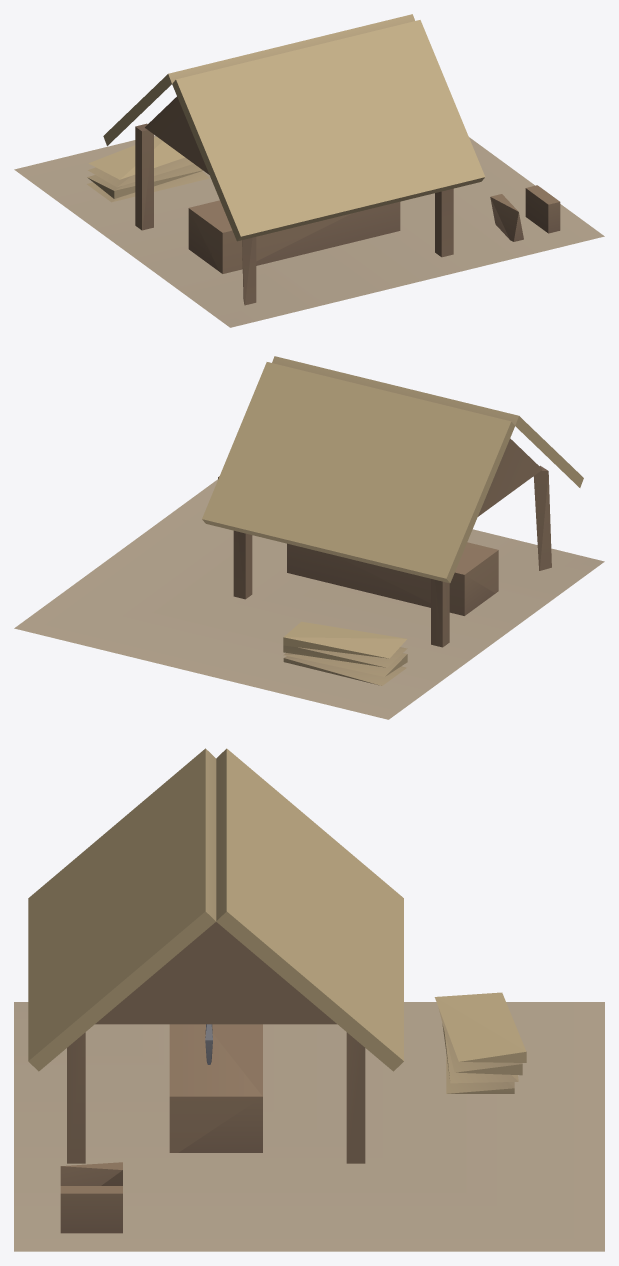
File: sawmill.lite.glb
3 views of the same model, one above another, from view 1: azimuth 30°, elevation 25°; view 2: azimuth 150°, elevation 25°; view 3: azimuth 270°, elevation 25° (orthographic). The views are drawn at different scales.
Visible parts, largest first — view 1: sawmill; view 2: sawmill; view 3: sawmill.
Boxes of the visible parts, box(x1,y1,x2,y2) form: sawmill: box(14, 14, 604, 327); sawmill: box(14, 356, 604, 719); sawmill: box(14, 748, 604, 1251).
Bounding box in the file's own units: 1.9 × 0.9567 × 1.9.
